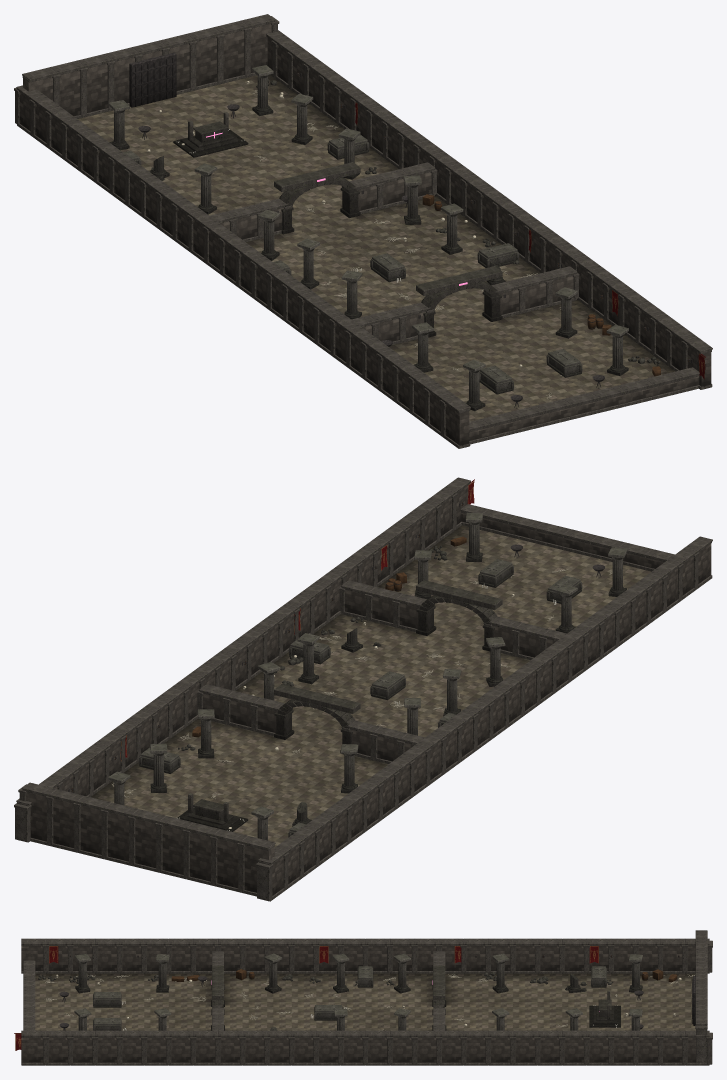
File: crypt.glb
The picture shows the model from 3 angles, top to bottom: view 1: azimuth 30°, elevation 25°; view 2: azimuth 150°, elevation 25°; view 3: azimuth 270°, elevation 25°; orthographic projection. The views are drawn at different scales.
Visible parts, largest first — view 1: floor, arch.002, arch.001, iron_door.001, altar.001, wall_north.007, wall_north.008, wall_north.003, wall_north.002, wall_north.006, wall_side.001, wall_north.009 (+71 smaller); view 2: floor, arch.001, arch.002, wall_north.002, wall_north.005, wall_north.007, wall_north.008, wall_north.004, wall_north.003, wall_north.006, wall_north.001, altar.001 (+69 smaller); view 3: floor, wall_side.029, wall_side.004, wall_side.023, wall_side.032, wall_side.039, wall_side.044, wall_side.051, wall_side.021, wall_side.037, wall_side.049, wall_side.012 (+66 smaller).
Part boxes in pixels (x1,y1,x2,y2): floor: (78, 74, 674, 421); arch.002: (274, 162, 360, 234); arch.001: (416, 266, 502, 337); iron_door.001: (129, 52, 176, 107); altar.001: (173, 112, 248, 157); wall_north.007: (186, 27, 224, 90); wall_north.008: (213, 20, 251, 83); wall_north.003: (77, 54, 115, 117); wall_north.002: (50, 60, 87, 118); wall_north.006: (159, 34, 197, 94); wall_side.001: (440, 395, 470, 448); wall_north.009: (241, 14, 279, 77); floor: (91, 525, 651, 847); arch.001: (416, 580, 502, 651); arch.002: (274, 684, 360, 754); wall_north.002: (209, 829, 247, 892); wall_north.005: (127, 809, 165, 872); wall_north.007: (73, 796, 111, 859); wall_north.008: (45, 789, 83, 852); wall_north.004: (155, 816, 193, 879); wall_north.003: (182, 822, 220, 885); wall_north.006: (100, 802, 138, 865); wall_north.001: (237, 836, 275, 896); altar.001: (177, 793, 248, 831); floor: (35, 973, 695, 1030); wall_side.029: (21, 1030, 49, 1065); wall_side.004: (95, 938, 122, 973); wall_side.023: (562, 938, 589, 973); wall_side.032: (95, 1030, 122, 1065); wall_side.039: (267, 1030, 294, 1065); wall_side.044: (390, 1030, 417, 1065); wall_side.051: (562, 1030, 589, 1065); wall_side.021: (513, 938, 540, 973); wall_side.037: (218, 1030, 245, 1065); wall_side.049: (513, 1030, 540, 1065); wall_side.012: (291, 938, 319, 973).
Size of what is drawn, in the model's own units: 37.4 by 7.77 by 114.
10 materials, 8 textured.
